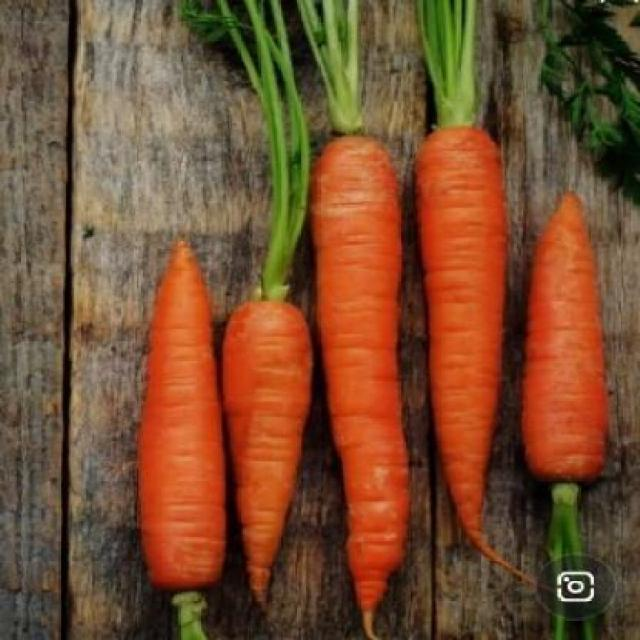carrot: (300, 123, 408, 629), (414, 123, 514, 579), (136, 224, 230, 606), (212, 290, 314, 615), (528, 183, 624, 482)
